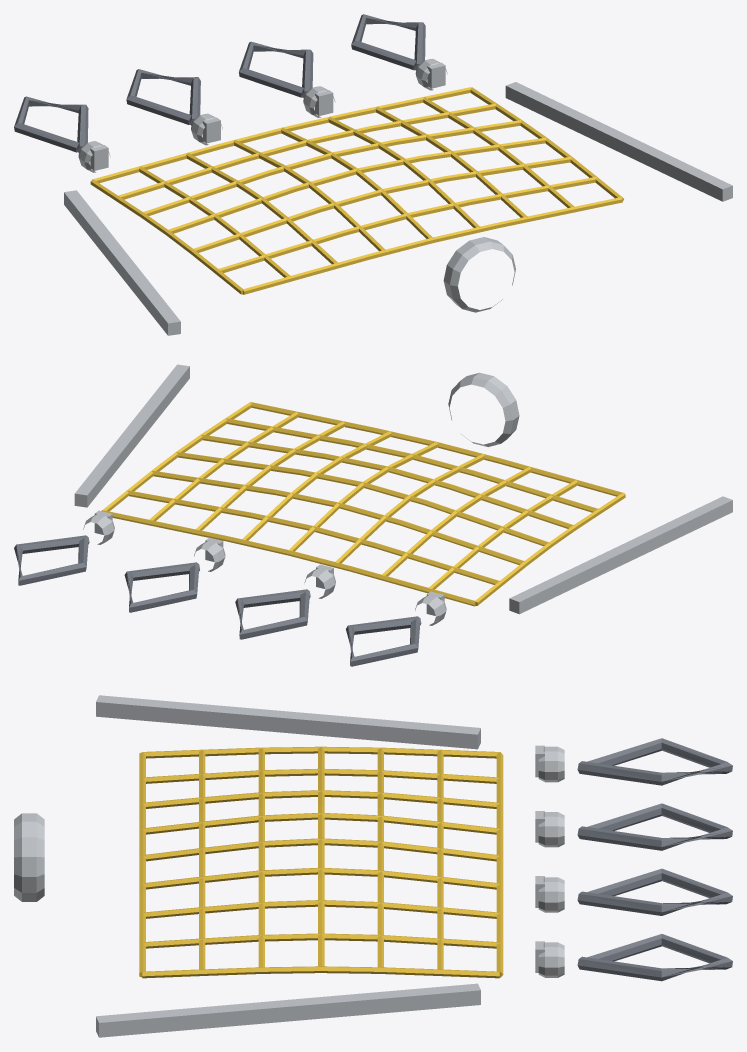
The model's file is ufo-crash-site-and-recovery-facility-cargo-net-and-sli-fdc20a09__17353.glb.
The picture shows the model from 3 angles, top to bottom: view 1: azimuth 30°, elevation 25°; view 2: azimuth 150°, elevation 25°; view 3: azimuth 270°, elevation 25°; orthographic projection. The views are drawn at different scales.
Parts seen in each view (by area): view 1: cargo-net-and-slings; view 2: cargo-net-and-slings; view 3: cargo-net-and-slings.
Part boxes in pixels (<box>): cargo-net-and-slings: <box>14,14,732,335</box>; cargo-net-and-slings: <box>14,364,732,666</box>; cargo-net-and-slings: <box>14,695,732,1037</box>.
Size of the model in its own units: 4.77 by 0.5462 by 4.43.
